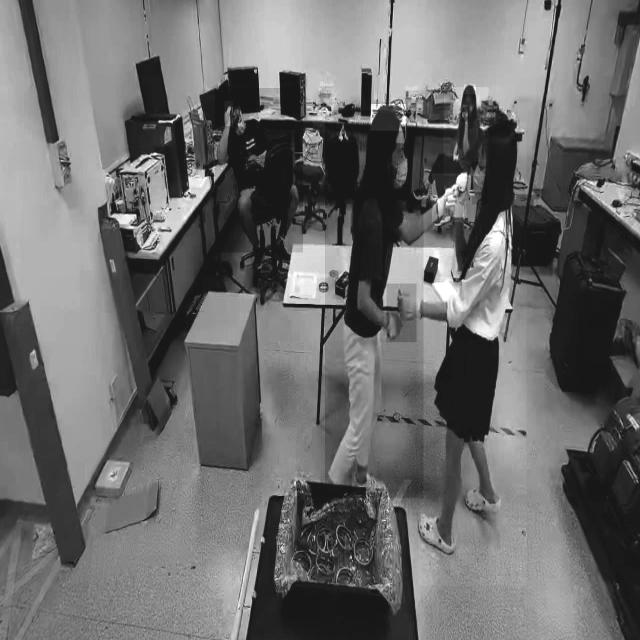face_mask: (390, 143, 410, 200), (472, 162, 488, 204), (232, 114, 250, 132)
face_nomask: (464, 98, 474, 117)
hand_glove: (386, 284, 416, 343), (432, 174, 466, 222)
hand_noglove: (224, 101, 233, 127), (247, 152, 259, 169), (462, 106, 470, 122)
head_nohelmet: (481, 120, 519, 147), (370, 104, 406, 132), (222, 93, 242, 107), (464, 85, 476, 95)
person: (418, 121, 526, 586), (324, 110, 424, 499), (215, 88, 303, 253), (444, 87, 488, 176)
